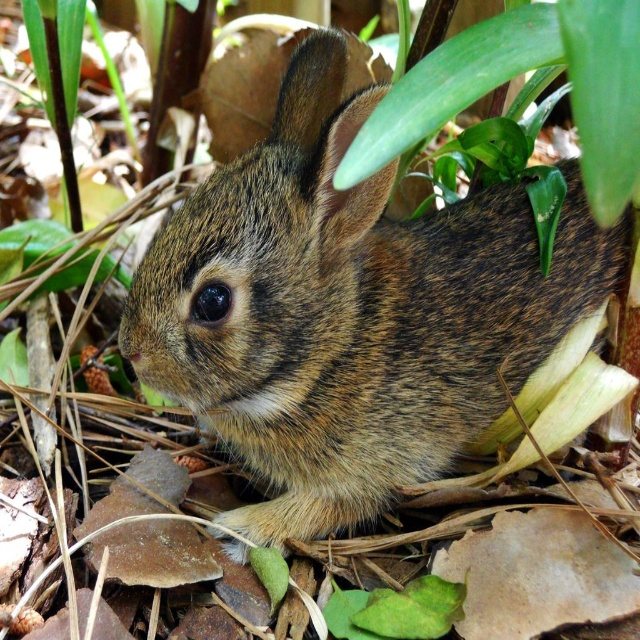Rabbit: (112, 13, 635, 567)
